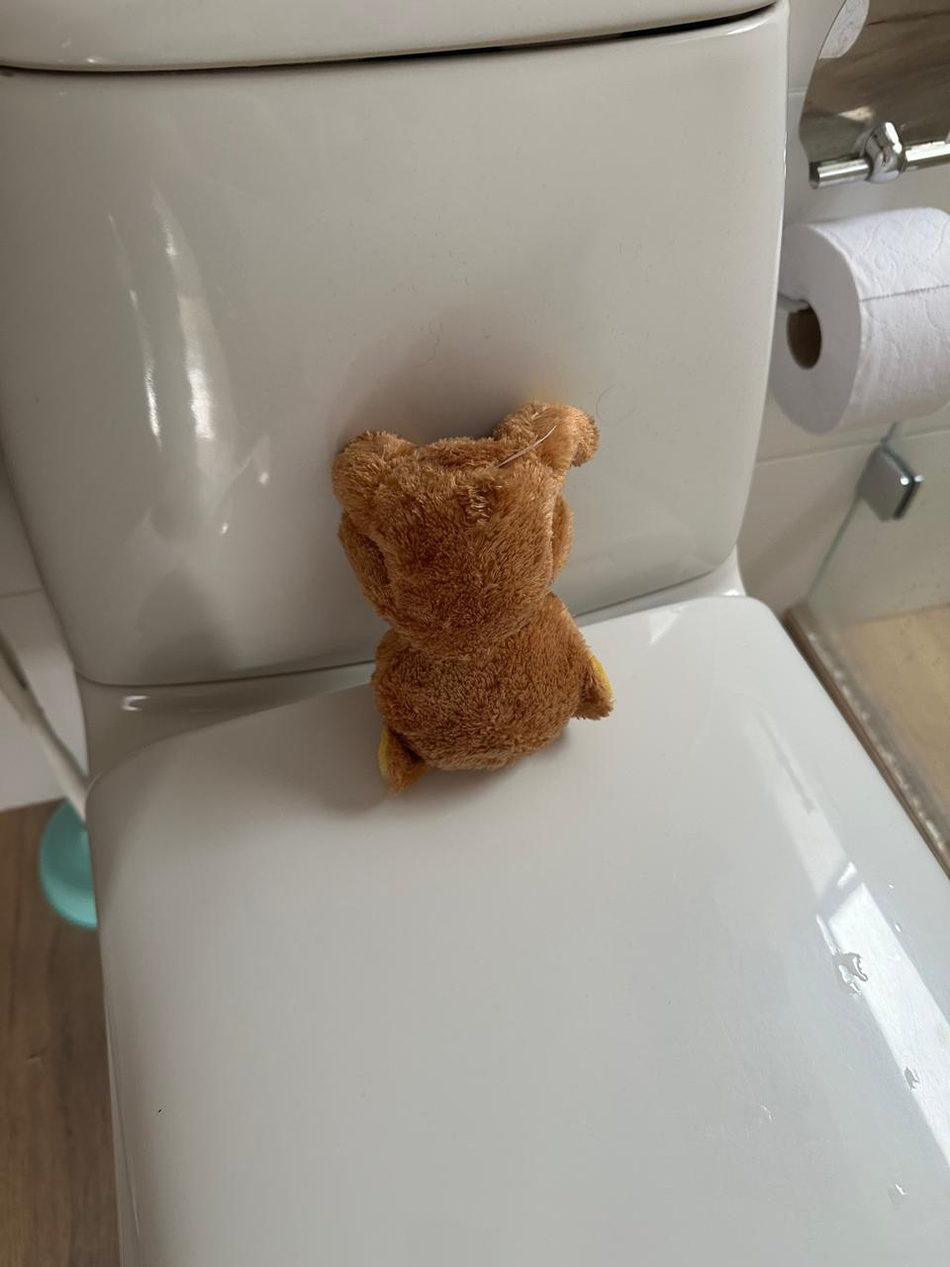peluche_sebastian: (322, 406, 623, 780)
